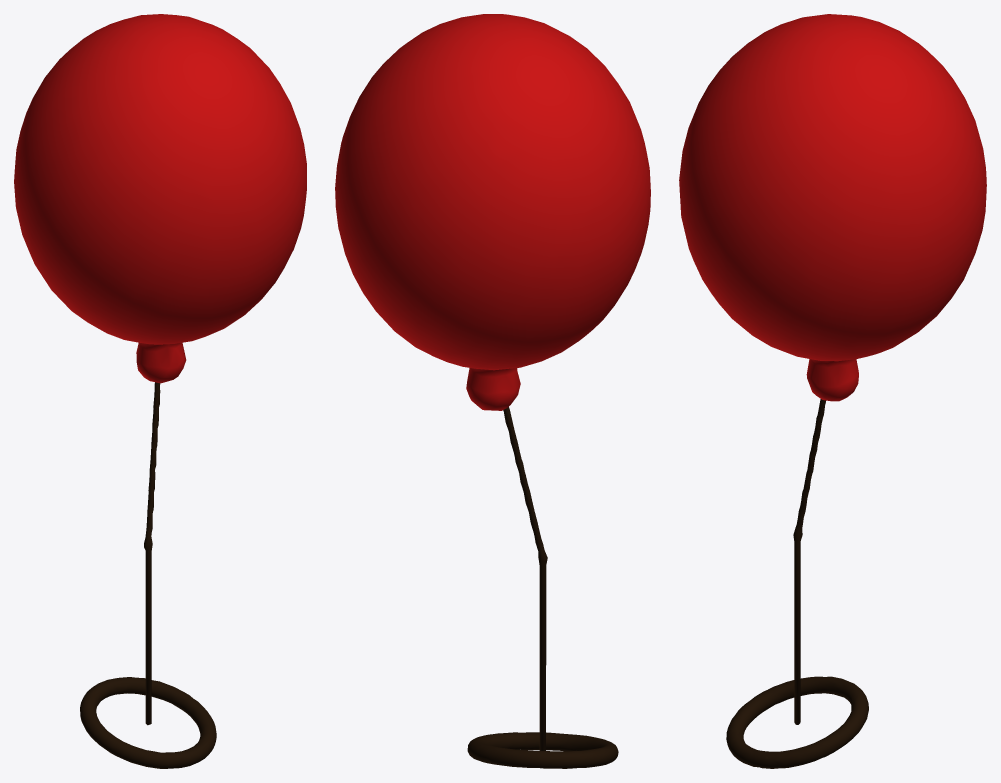
Rendered from bongbay.glb.
3 renders of one model, left to right at view 1: azimuth 30°, elevation 25°; view 2: azimuth 150°, elevation 25°; view 3: azimuth 270°, elevation 25°, orthographic. The views are drawn at different scales.
Parts seen in each view (by area): view 1: Bong_Bay, Day_Bong; view 2: Bong_Bay, Day_Bong; view 3: Bong_Bay, Day_Bong.
Part boxes in pixels (x1=…): Bong_Bay: x1=14, y1=14, x2=306, y2=383; Day_Bong: x1=80, y1=382, x2=216, y2=768; Bong_Bay: x1=335, y1=14, x2=650, y2=410; Day_Bong: x1=467, y1=407, x2=618, y2=768; Bong_Bay: x1=679, y1=14, x2=986, y2=401; Day_Bong: x1=726, y1=399, x2=868, y2=768.
Bounding box in the file's own units: 0.1038 × 0.2744 × 0.104.
